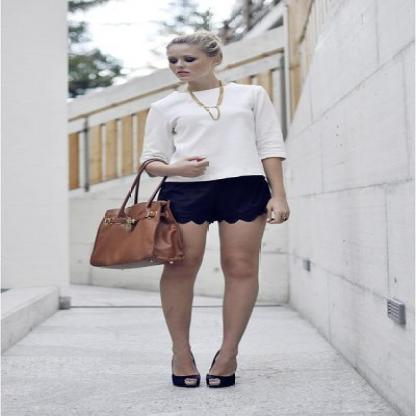bag: (90, 158, 188, 269)
shirt: (140, 82, 281, 181)
shoe: (172, 374, 202, 387)
shorts: (158, 175, 270, 224)
